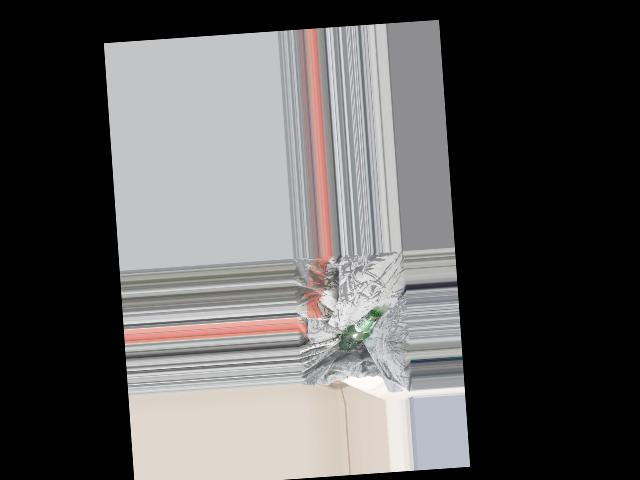beer: (336, 308, 382, 350)
